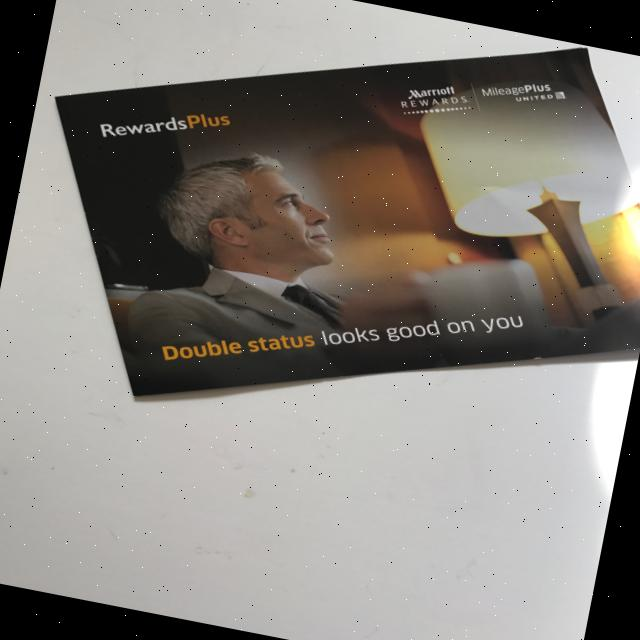paper: (2, 0, 640, 494)
